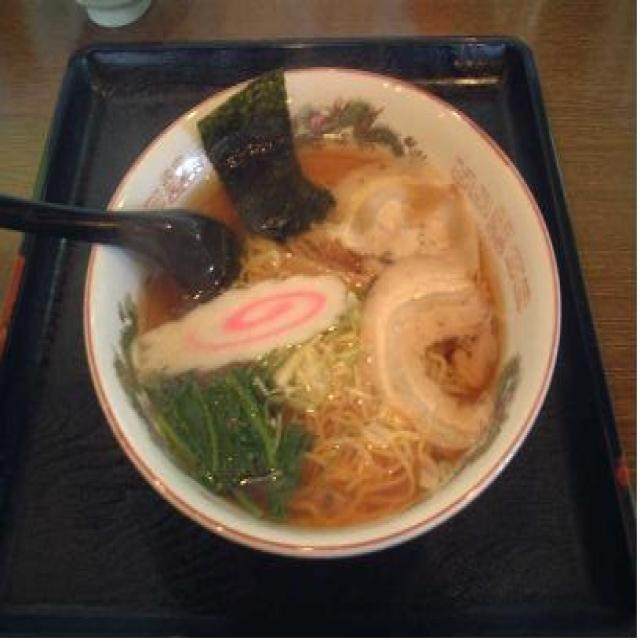面条主食: (72, 59, 565, 571)
